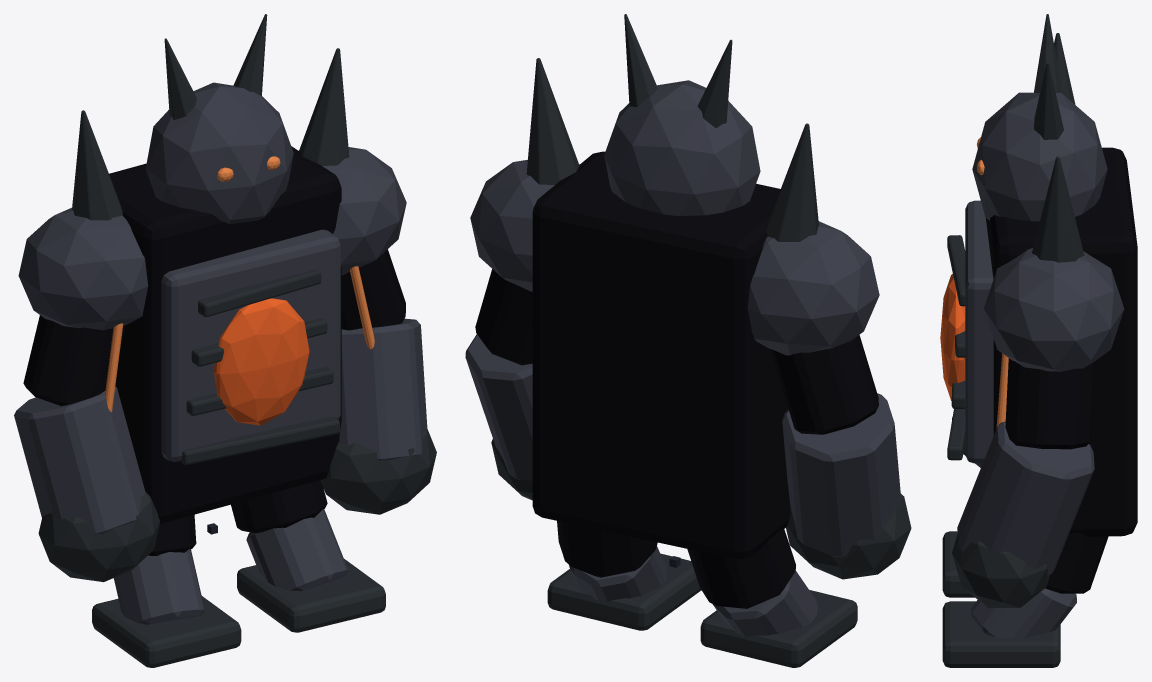
Rendered from Prismora_Monolite_V1.fbx.
3 views of the same model, side by side, from view 1: azimuth 30°, elevation 25°; view 2: azimuth 150°, elevation 25°; view 3: azimuth 270°, elevation 25° (orthographic). The views are drawn at different scales.
Parts seen in each view (by area): view 1: Monolite_Body, Monolite_Energy; view 2: Monolite_Body; view 3: Monolite_Body, Monolite_Energy.
Part boxes in pixels (x1=…): Monolite_Body: x1=14, y1=14, x2=436, y2=667; Monolite_Energy: x1=104, y1=156, x2=374, y2=425; Monolite_Body: x1=465, y1=14, x2=911, y2=667; Monolite_Body: x1=942, y1=14, x2=1137, y2=667; Monolite_Energy: x1=940, y1=137, x2=1008, y2=428.
Bounding box in the file's own units: 7.03 × 10.05 × 3.09.
Materials: 3 (2 with a texture image).
